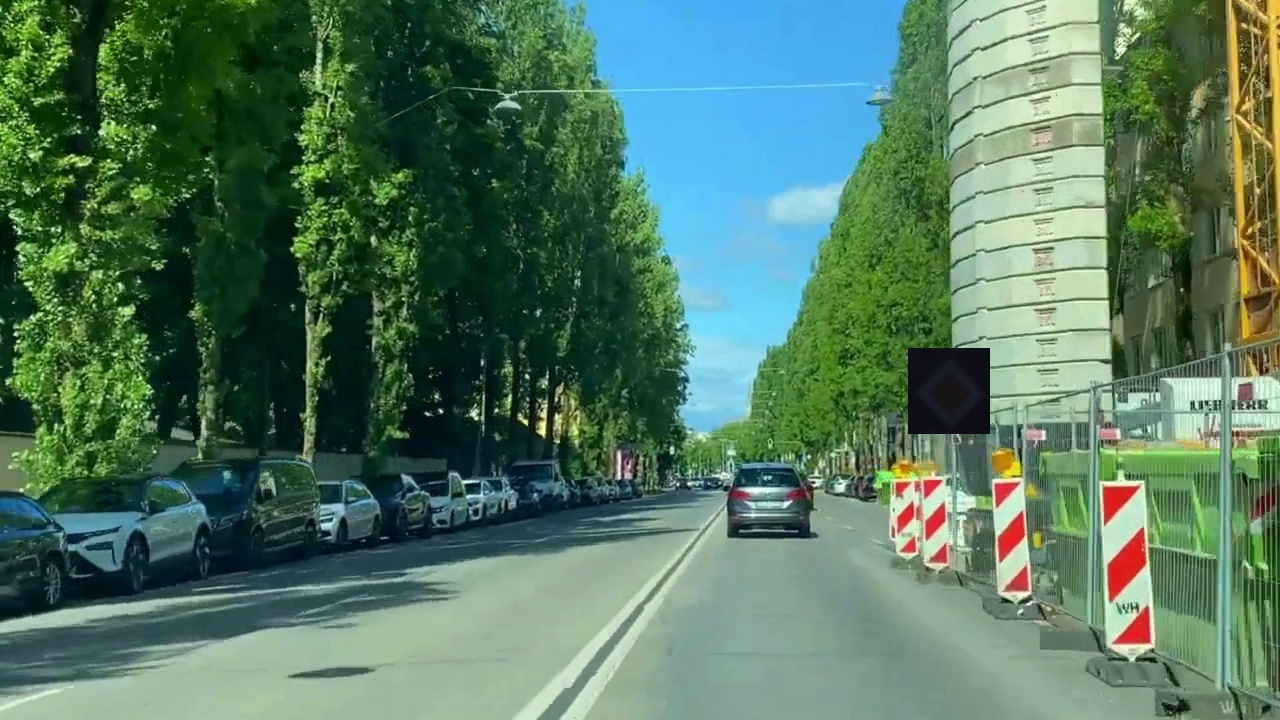Priority road: (908, 348, 990, 434)
